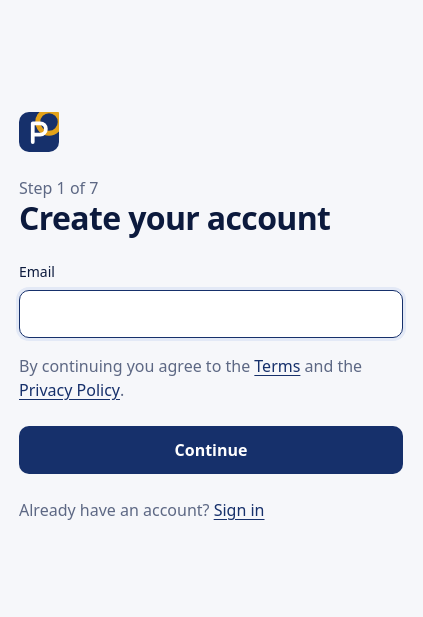
it: an expired flow offers to start again
This screenshot has width=423, height=617.
Type "nigar@example.test" into the field labelled "Email" at (211, 314), box [20, 291, 402, 337]
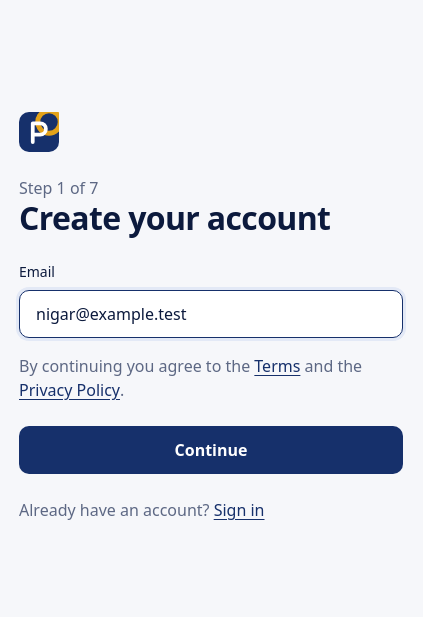
Click the button "Continue" at (211, 450), box [19, 426, 403, 474]
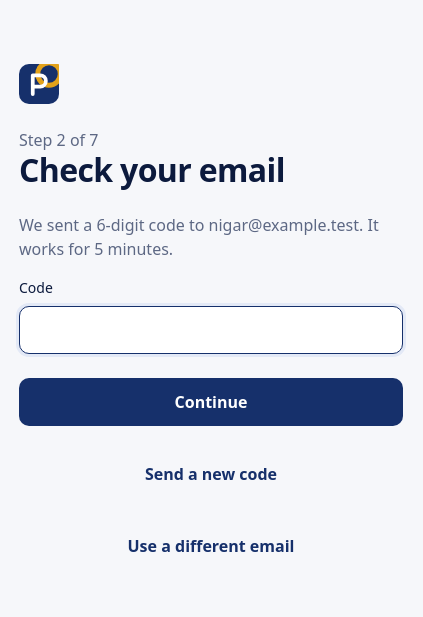
Now the heading "Check your email" is shown, box [19, 148, 285, 191]
Type "123456" into the field labelled "Code" at (211, 330), box [20, 307, 402, 353]
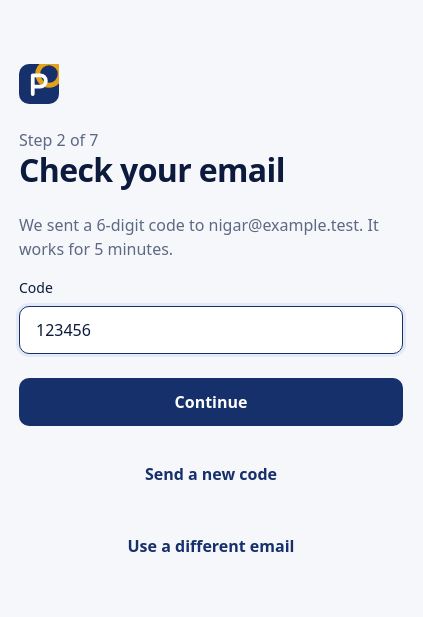
Click the button "Continue" at (211, 402), box [19, 378, 403, 426]
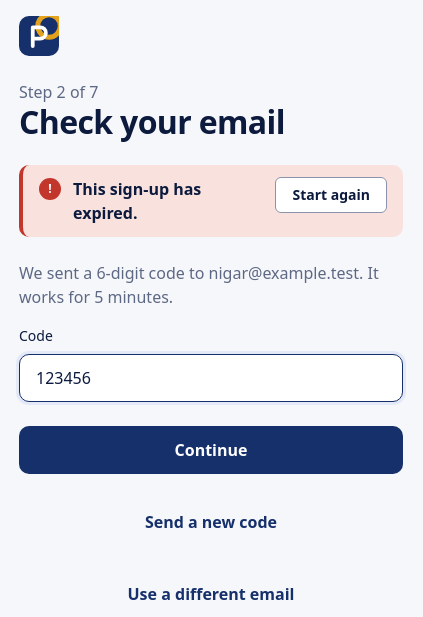
Now the message shows "This sign-up has expired", box [73, 178, 201, 224]
Click the button "Start again" at (331, 195), box [275, 177, 387, 213]
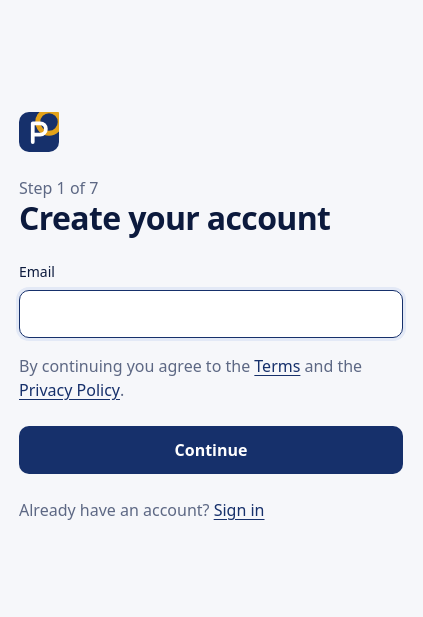
Now the heading "Create your account" is shown, box [19, 196, 330, 239]
